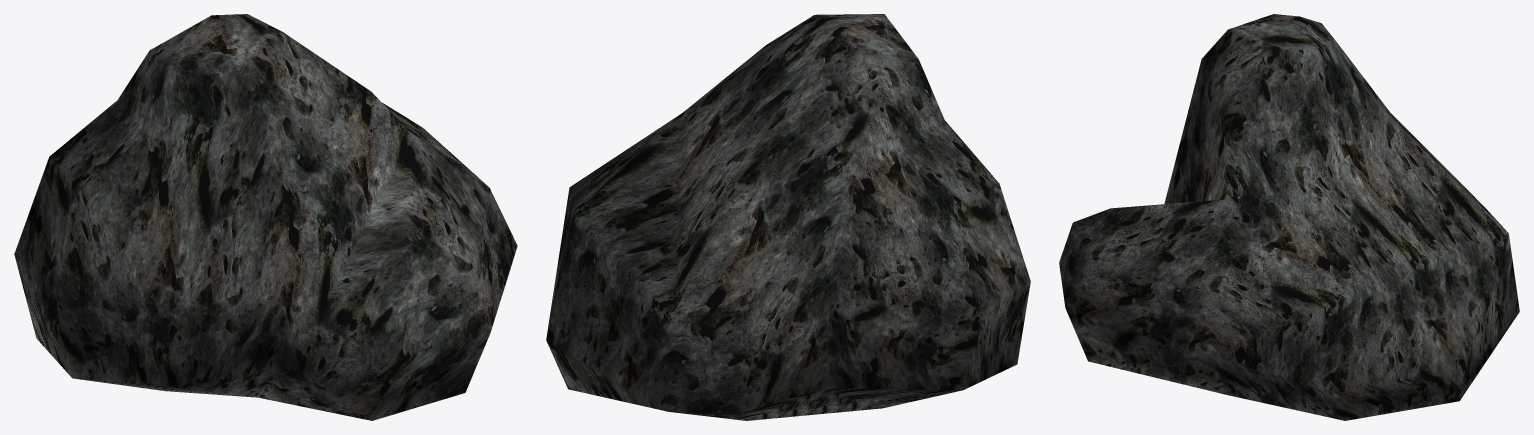
The model's file is rock_scorched_big_l1.fbx.
3 renders of one model, left to right at view 1: azimuth 30°, elevation 25°; view 2: azimuth 150°, elevation 25°; view 3: azimuth 270°, elevation 25°, orthographic. The views are drawn at different scales.
Parts seen in each view (by area): view 1: mesh_node; view 2: mesh_node; view 3: mesh_node.
Part boxes in pixels (x1,y1,x2,y2): mesh_node: (14, 14, 517, 420); mesh_node: (546, 14, 1030, 420); mesh_node: (1059, 14, 1519, 420).
Bounding box in the file's own units: 7.28 × 5.92 × 7.56.
Materials: 1 (1 with a texture image).
